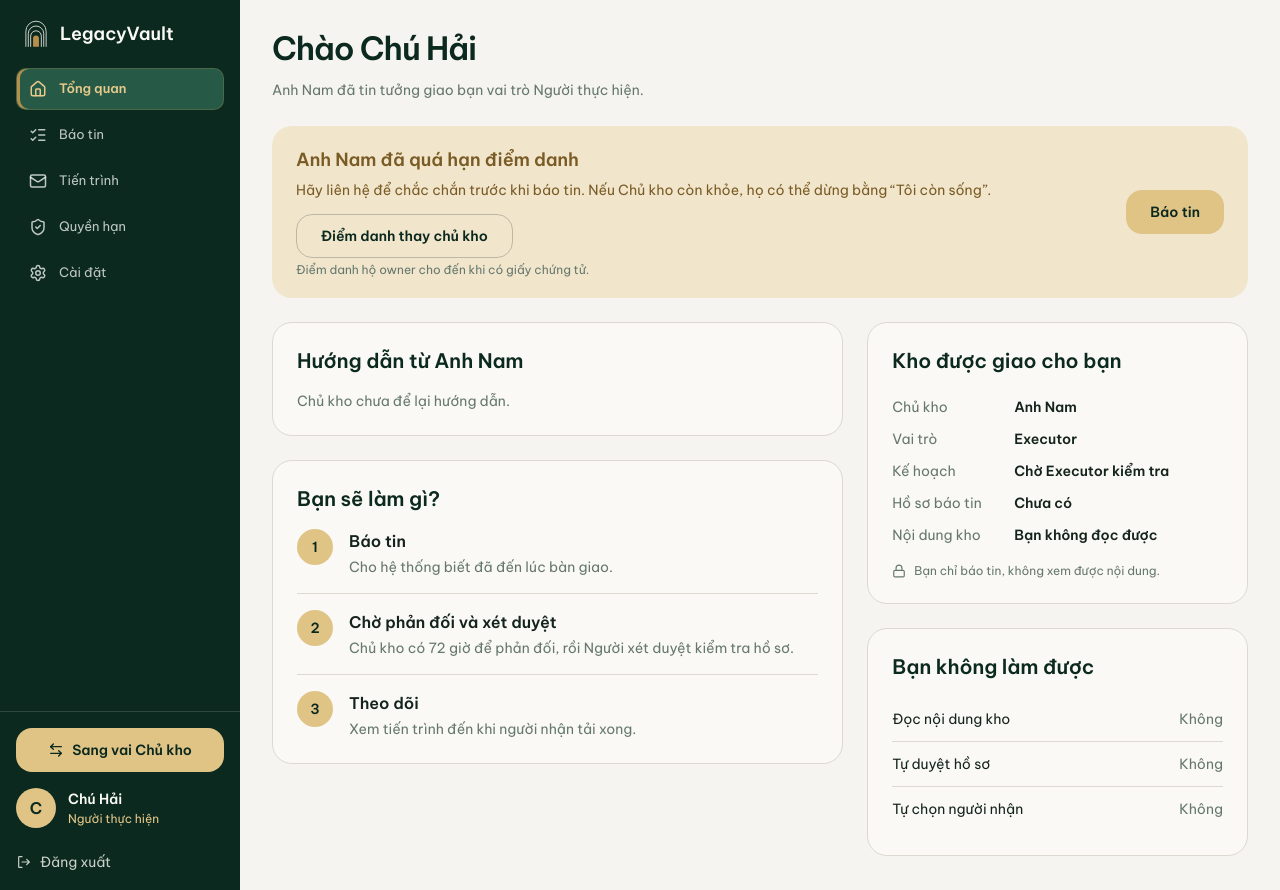
Test case: Executor overview › checks in for the overdue Owner and hides the button once the vault is safe again
The width and height of the screenshot is (1280, 890).
expect the text "Điểm danh hộ owner cho đến khi có giấy chứng tử." is shown: met, box [296,262,589,277]
Click the button "Điểm danh thay chủ kho".
click(404, 236)  # box [296,214,513,258]
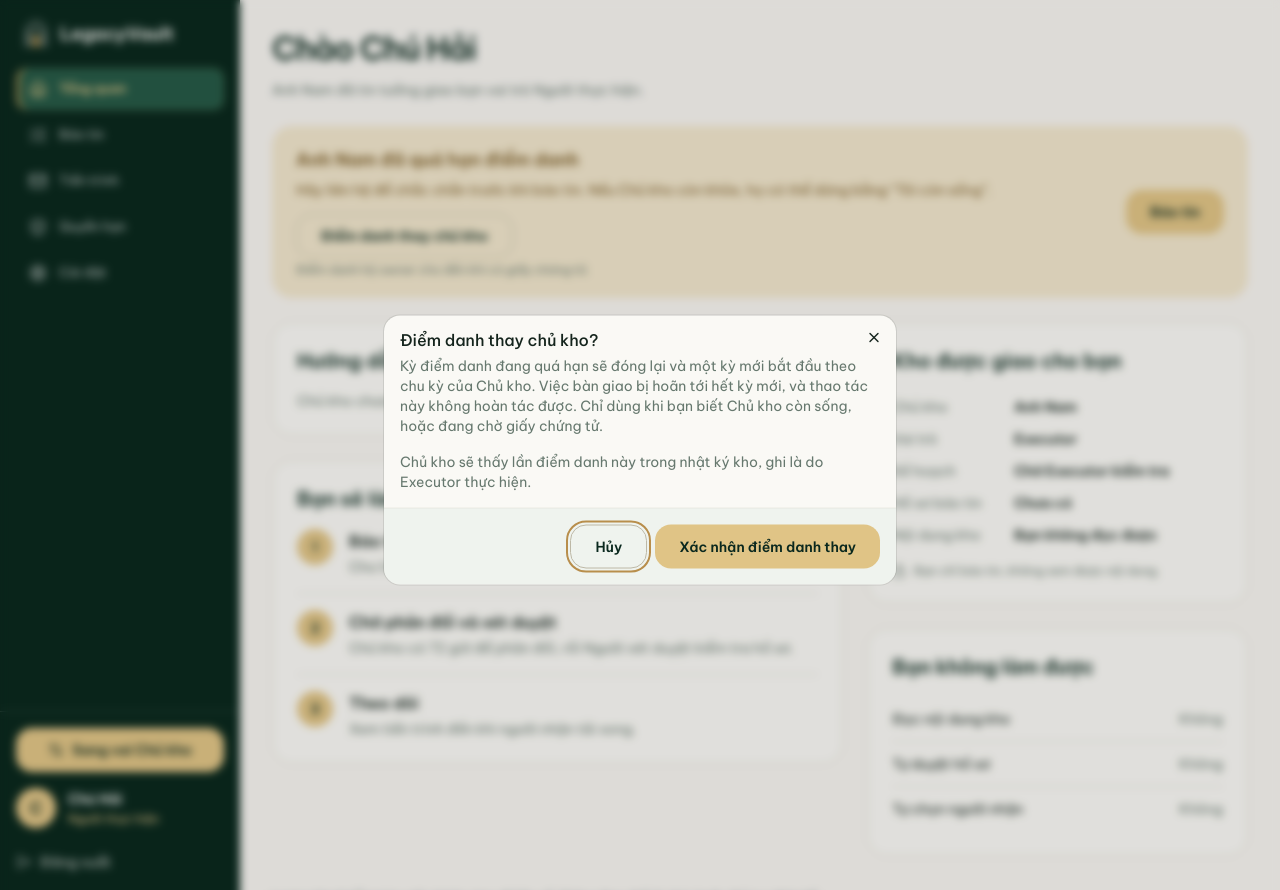
expect the dialog shows "không hoàn tác được": met, box [400,356,868,434]
Click the button "Xác nhận điểm danh thay".
click(768, 546)  # box [655,524,880,568]
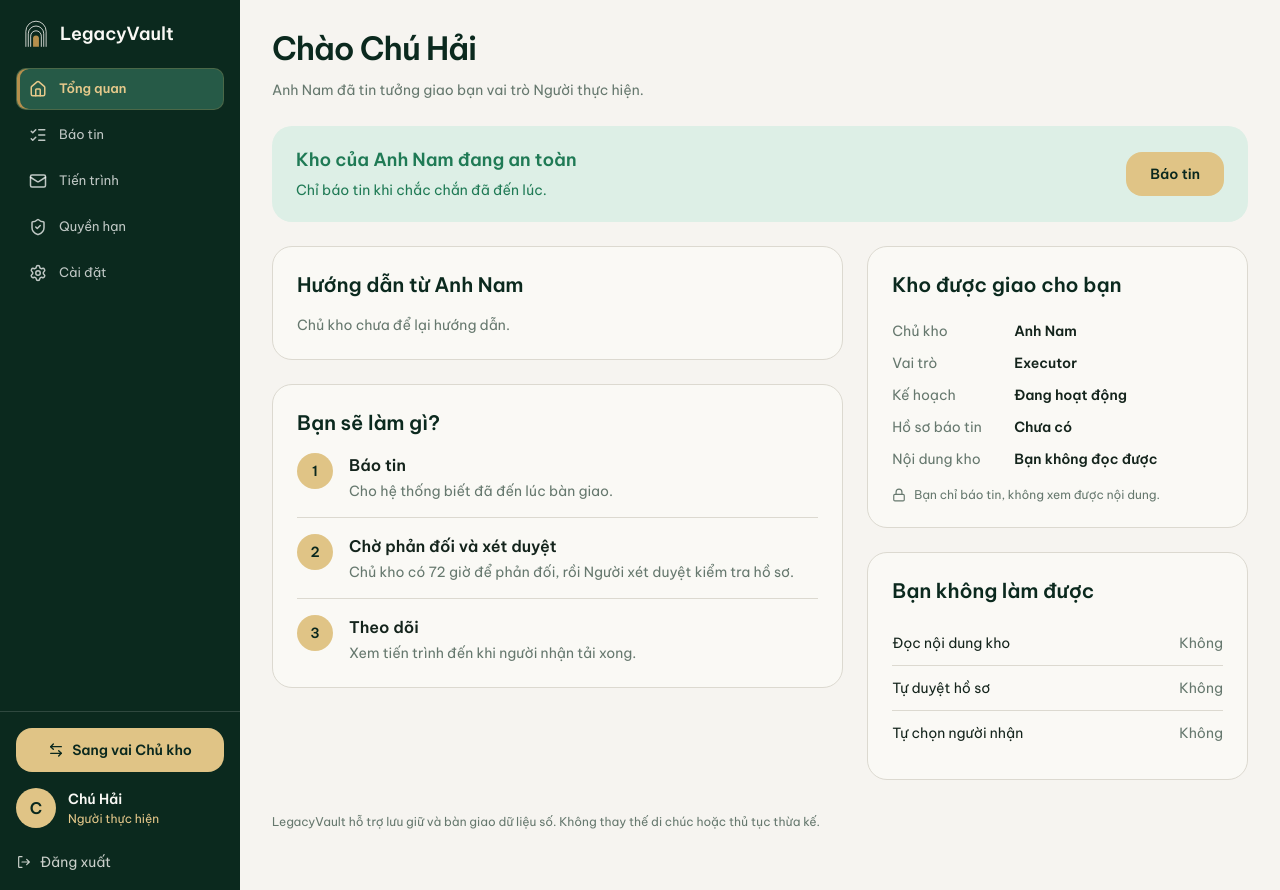
expect the text "Kho của Anh Nam đang an toàn" is shown: met, box [296,146,577,174]
expect the button "Điểm danh thay chủ kho" is gone: met
